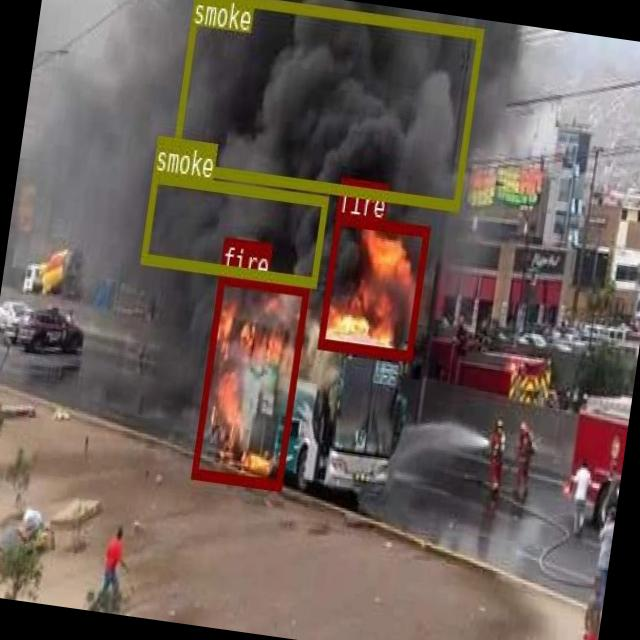fire: (191, 272, 309, 488), (316, 213, 428, 358)
smoke: (170, 0, 482, 209), (140, 169, 328, 285)
